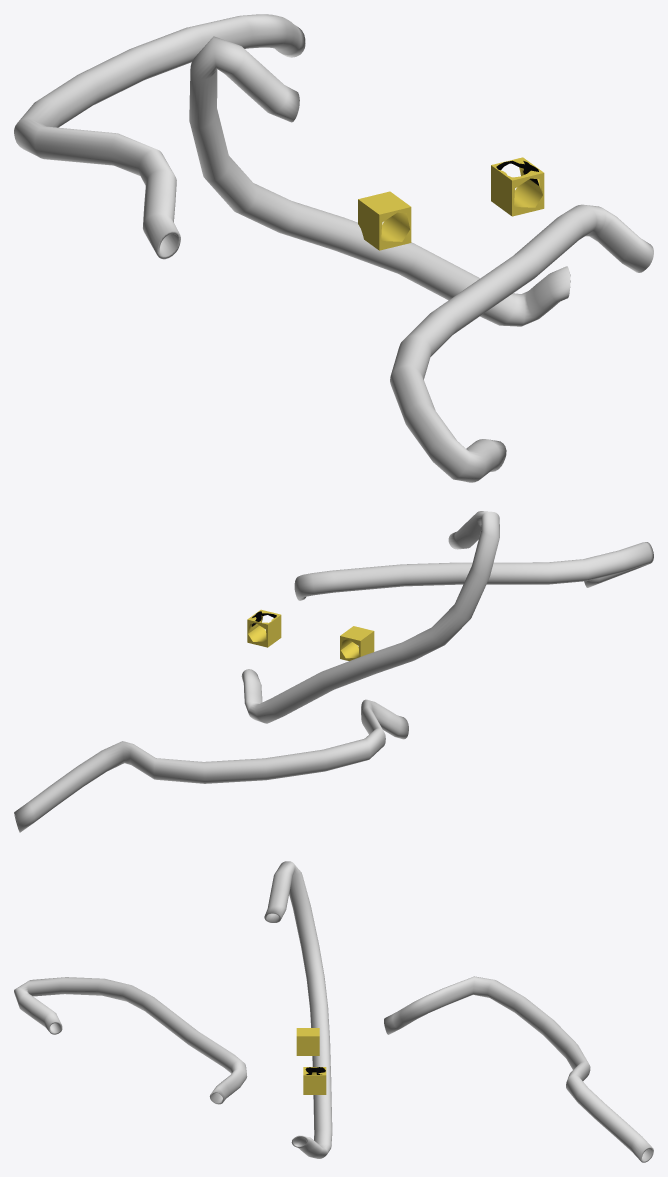
File: CaveProtoAa.fbx
3 renders of one model, top to bottom at view 1: azimuth 30°, elevation 25°; view 2: azimuth 150°, elevation 25°; view 3: azimuth 270°, elevation 25°, orthographic. The views are drawn at different scales.
Visible parts, largest first — view 1: BézierCurve.003, BézierCurve.002, BézierCurve.001, caveTunnelBlock1, caveTunnelBlock2; view 2: BézierCurve.002, BézierCurve.003, BézierCurve.001, caveTunnelBlock2, caveTunnelBlock1; view 3: BézierCurve.002, BézierCurve.003, BézierCurve.001, caveTunnelBlock1, caveTunnelBlock2.
Boxes of the visible parts, bbox=[...] form: BézierCurve.003: bbox=[189, 36, 570, 326]; BézierCurve.002: bbox=[14, 14, 305, 259]; BézierCurve.001: bbox=[390, 204, 653, 482]; caveTunnelBlock1: bbox=[358, 191, 411, 250]; caveTunnelBlock2: bbox=[491, 157, 544, 216]; BézierCurve.002: bbox=[14, 699, 408, 832]; BézierCurve.003: bbox=[241, 511, 499, 723]; BézierCurve.001: bbox=[294, 542, 653, 600]; caveTunnelBlock2: bbox=[247, 609, 281, 647]; caveTunnelBlock1: bbox=[340, 626, 374, 660]; BézierCurve.002: bbox=[384, 976, 653, 1162]; BézierCurve.003: bbox=[264, 861, 332, 1158]; BézierCurve.001: bbox=[14, 977, 247, 1104]; caveTunnelBlock1: bbox=[296, 1028, 319, 1055]; caveTunnelBlock2: bbox=[303, 1067, 326, 1094].
Bounding box in the file's own units: 11987 × 10214 × 28216.
